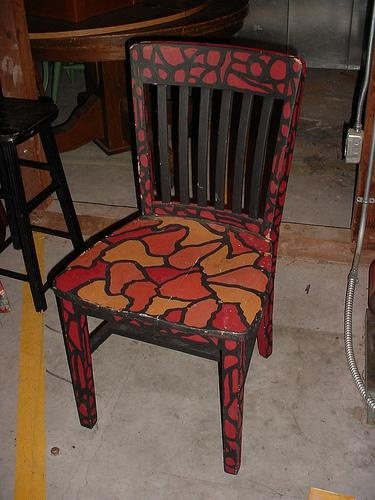obstacle: (54, 41, 304, 473)
